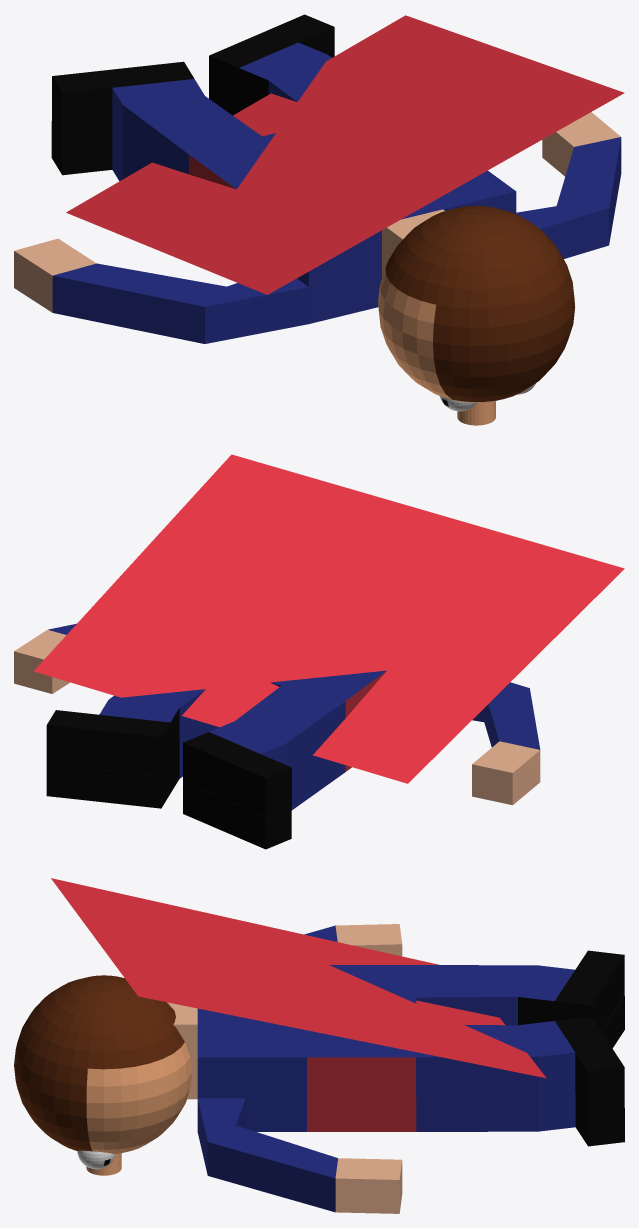
File: Stabbed policeman.fbx
The picture shows the model from 3 angles, top to bottom: view 1: azimuth 30°, elevation 25°; view 2: azimuth 150°, elevation 25°; view 3: azimuth 270°, elevation 25°; orthographic projection. The views are drawn at different scales.
Parts seen in each view (by area): view 1: Plane, Cube, Sphere; view 2: Plane, Cube; view 3: Cube, Plane, Sphere, Sphere.002.
Part boxes in pixels (left/top/right/bottom): Plane: left=66, top=15, right=624, bottom=294; Cube: left=14, top=14, right=621, bottom=343; Sphere: left=378, top=206, right=575, bottom=425; Plane: left=34, top=454, right=624, bottom=783; Cube: left=14, top=623, right=540, bottom=849; Cube: left=168, top=924, right=624, bottom=1213; Plane: left=51, top=878, right=546, bottom=1078; Sphere: left=14, top=975, right=191, bottom=1175; Sphere.002: left=77, top=1150, right=115, bottom=1169.
Bounding box in the file's own units: 554 × 248 × 559.
